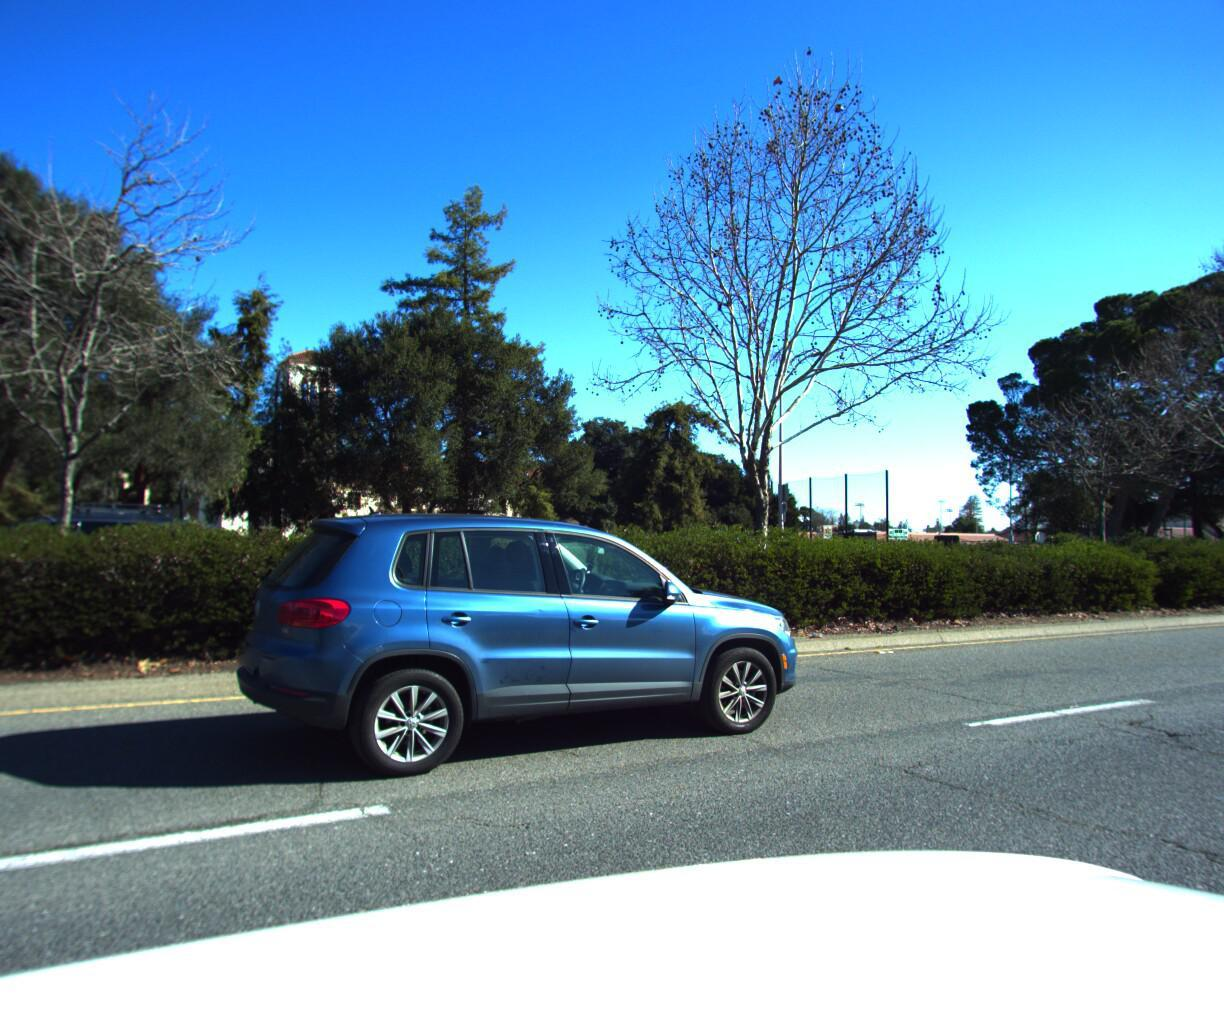car: (226, 499, 832, 801), (0, 490, 254, 626)
